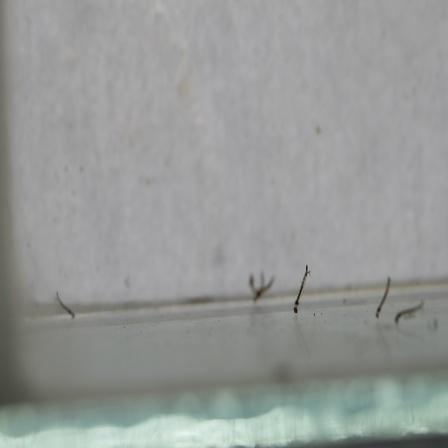Jentik-Nyamuk: (290, 259, 315, 318), (372, 273, 392, 323), (52, 288, 79, 322)
